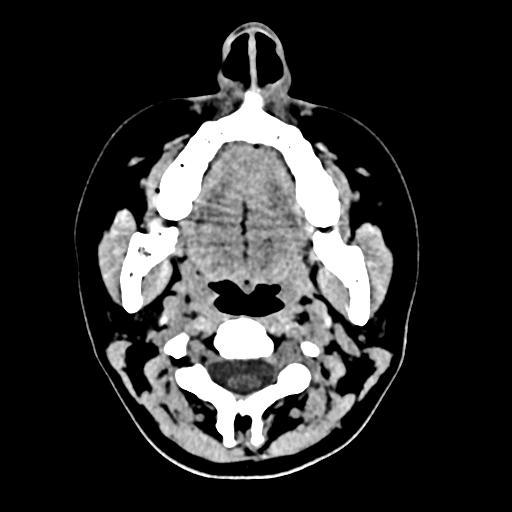Normal_Brain: (20, 16, 493, 500)
